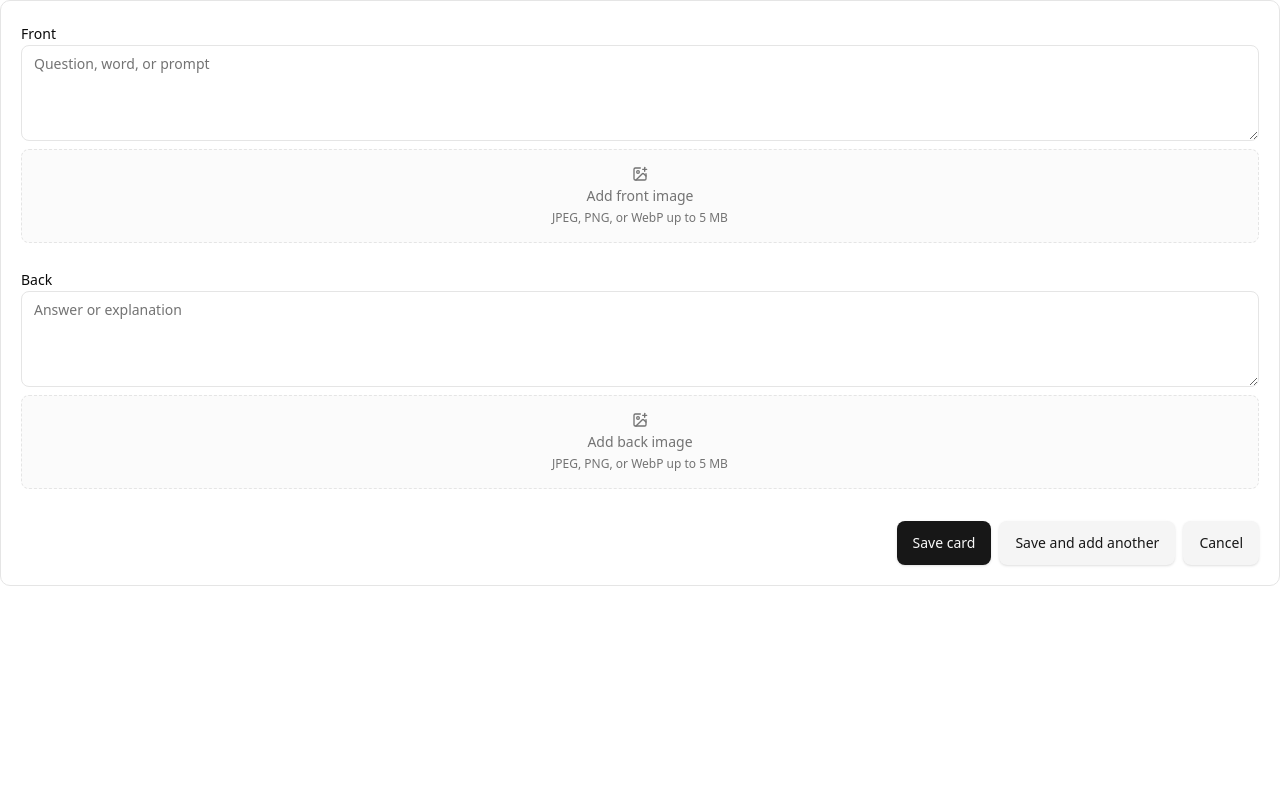
Test: CardForm › shows an inline error when save-and-add-another fails
Type "front" into the text box labelled "Front" at (640, 93), box left=21, top=45, right=1259, bottom=141
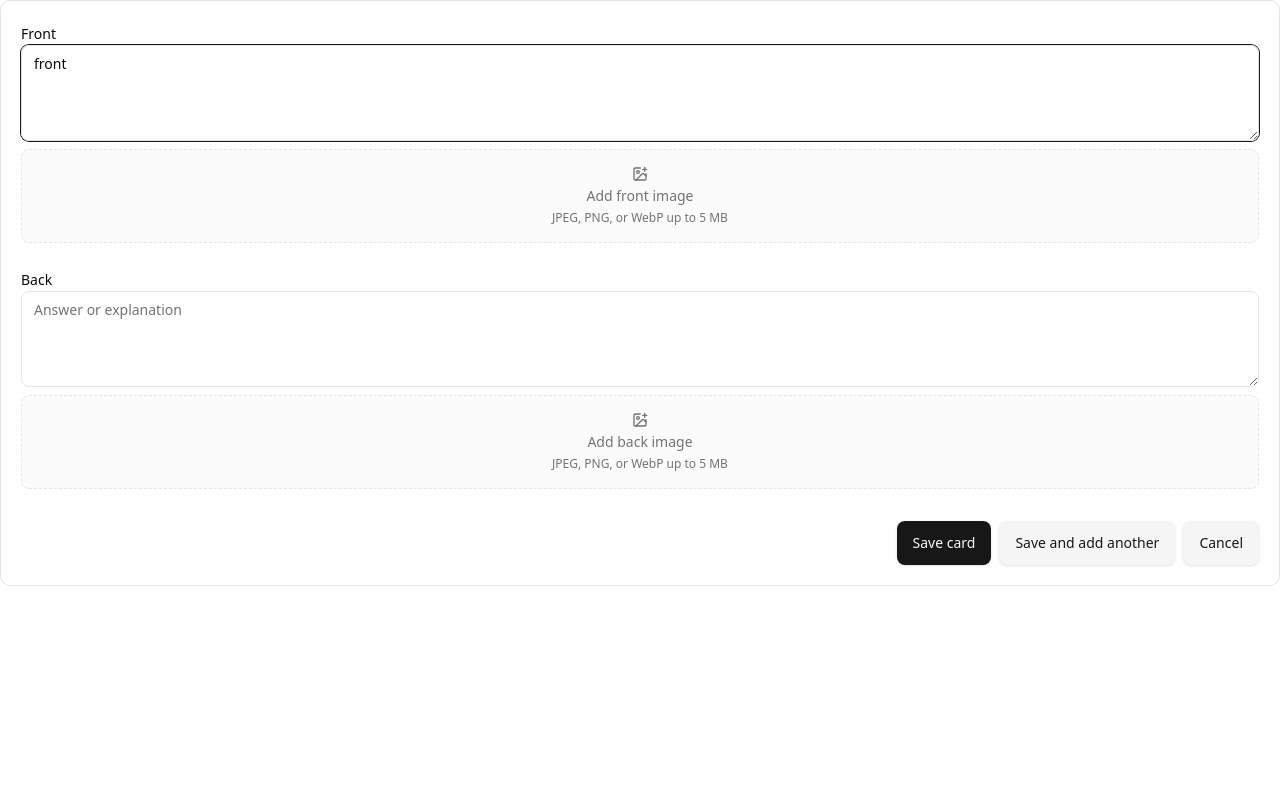
Type "back" into the text box labelled "Back" at (640, 339), box left=21, top=291, right=1259, bottom=387
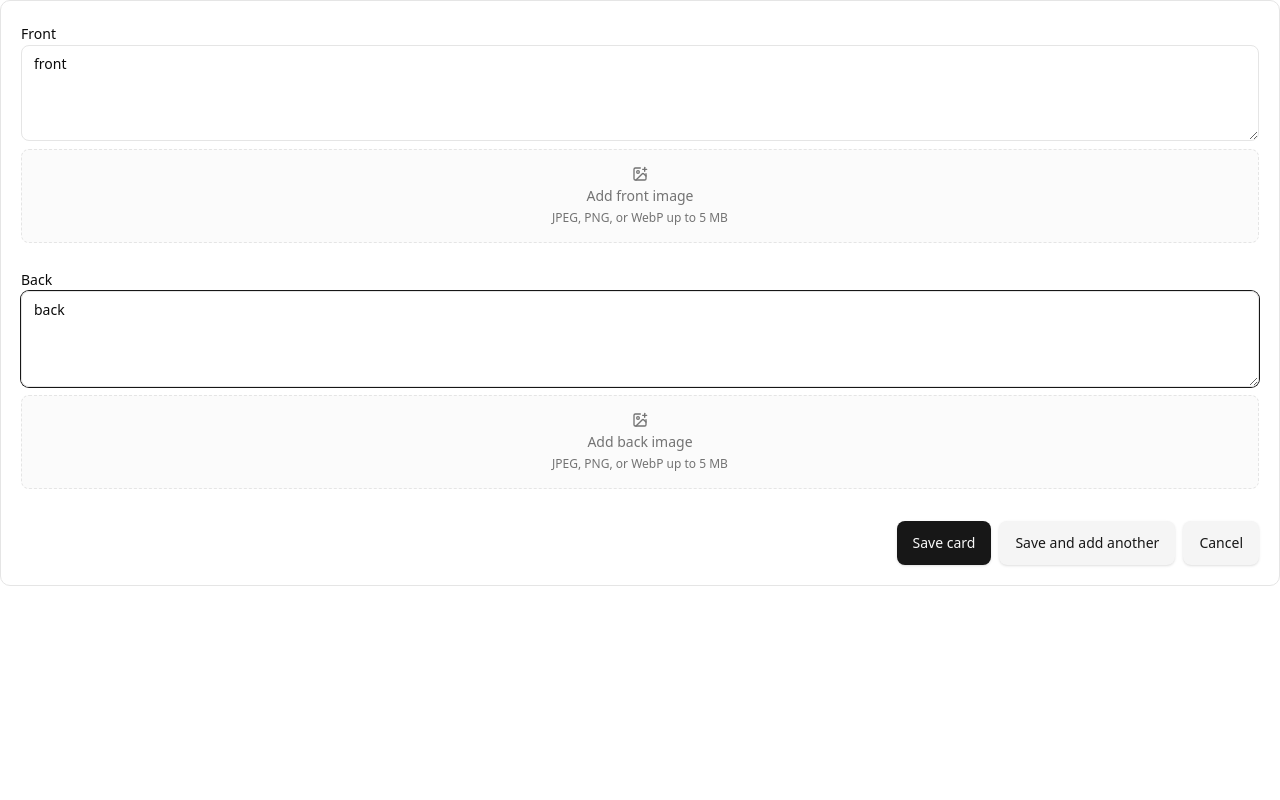
Click the button "Save and add another" at (1087, 543), box left=999, top=521, right=1175, bottom=565
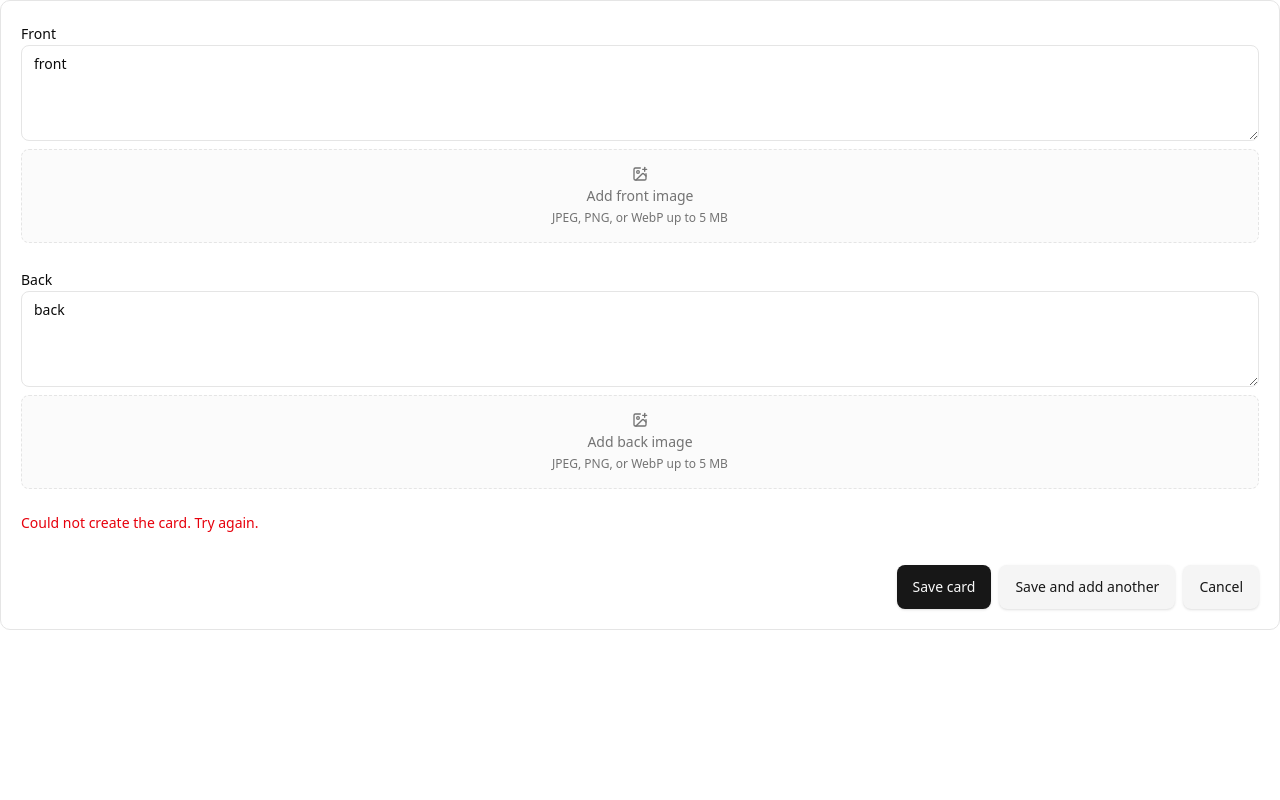
Expected: the message reads "Could not create the card. Try again.", left=21, top=513, right=258, bottom=532
